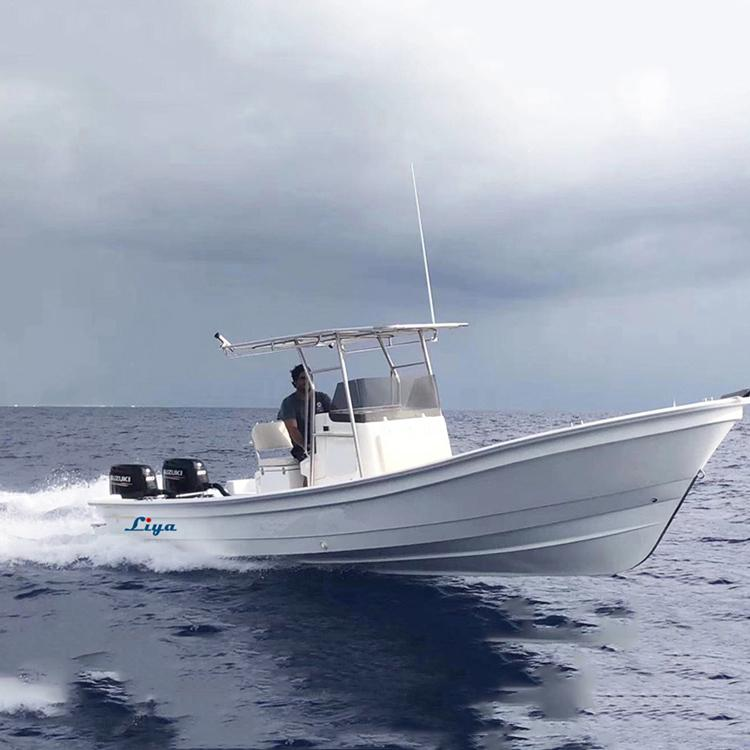fishing boat: (50, 318, 750, 580)
